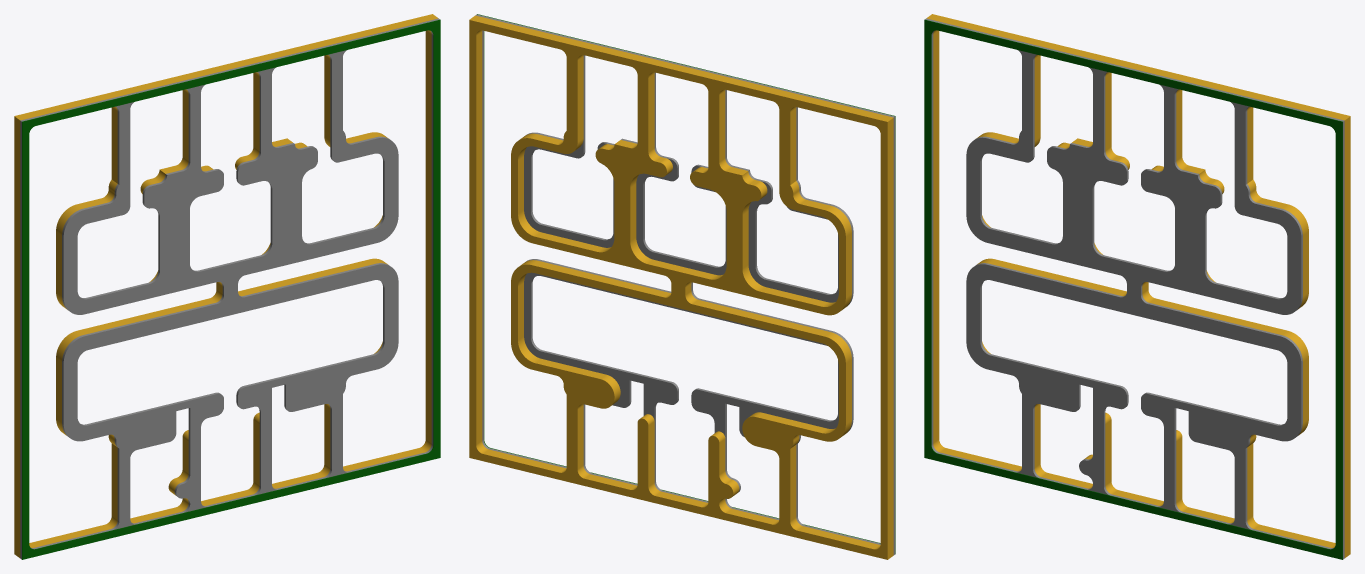
The model's file is metal_mask_stack.glb.
The picture shows the model from 3 angles, left to right: view 1: azimuth 30°, elevation 25°; view 2: azimuth 150°, elevation 25°; view 3: azimuth 330°, elevation 25°; orthographic projection.
Visible parts, largest first — view 1: metal_feature_part, metal_support_part, spacer_shim_thin_part; view 2: metal_support_part, metal_feature_part, spacer_shim_thin_part; view 3: metal_feature_part, metal_support_part, spacer_shim_thin_part.
Boxes of the visible parts, <box> form: metal_feature_part: <box>20,18,439,559</box>; metal_support_part: <box>14,14,438,557</box>; spacer_shim_thin_part: <box>22,19,440,559</box>; metal_support_part: <box>469,15,893,559</box>; metal_feature_part: <box>475,14,895,555</box>; spacer_shim_thin_part: <box>477,14,895,553</box>; metal_feature_part: <box>925,18,1344,559</box>; metal_support_part: <box>926,14,1350,557</box>; spacer_shim_thin_part: <box>924,19,1342,559</box>.
Size of the model in its own units: 30 by 30 by 1.
